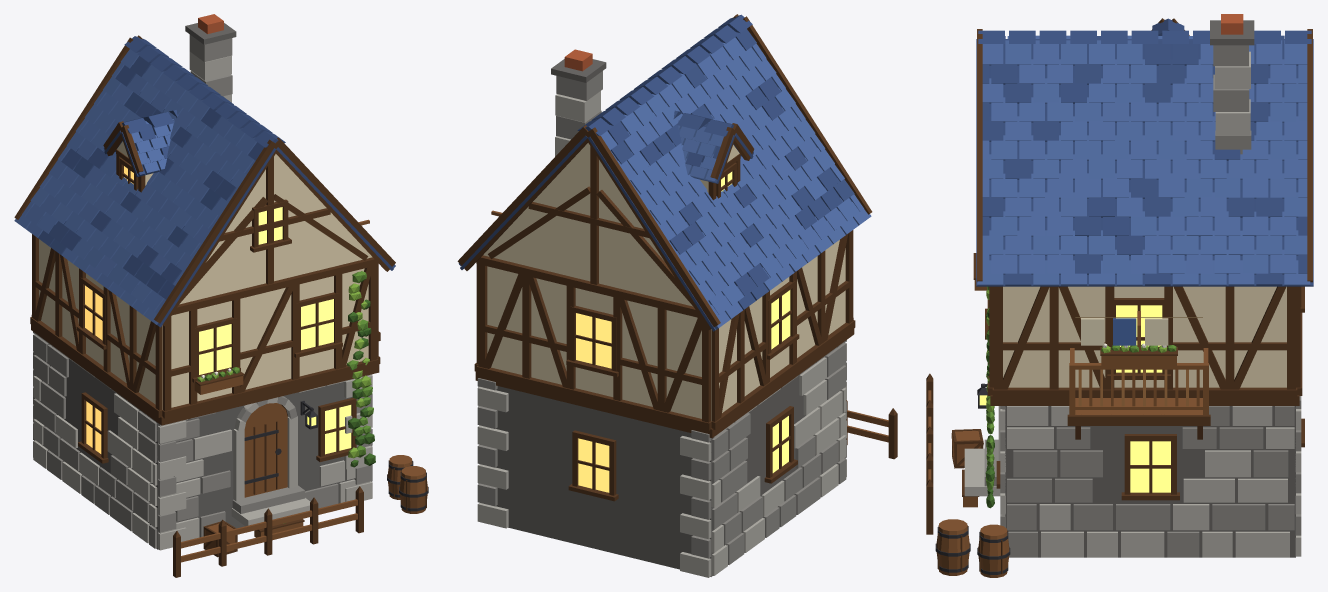
The model's file is Cottage_06_Laundry.fbx.
3 views of the same model, side by side, from view 1: azimuth 30°, elevation 25°; view 2: azimuth 150°, elevation 25°; view 3: azimuth 270°, elevation 25° (orthographic). The views are drawn at different scales.
Visible parts, largest first — view 1: Cottage_06_Laundry_LOD0; view 2: Cottage_06_Laundry_LOD0; view 3: Cottage_06_Laundry_LOD0.
Part boxes in pixels (x1=…): Cottage_06_Laundry_LOD0: x1=14, y1=14, x2=428, y2=577; Cottage_06_Laundry_LOD0: x1=457, y1=14, x2=897, y2=577; Cottage_06_Laundry_LOD0: x1=926, y1=14, x2=1313, y2=577.
Size of what is drawn, in the model's own units: 6.66 by 9.53 by 6.66.
